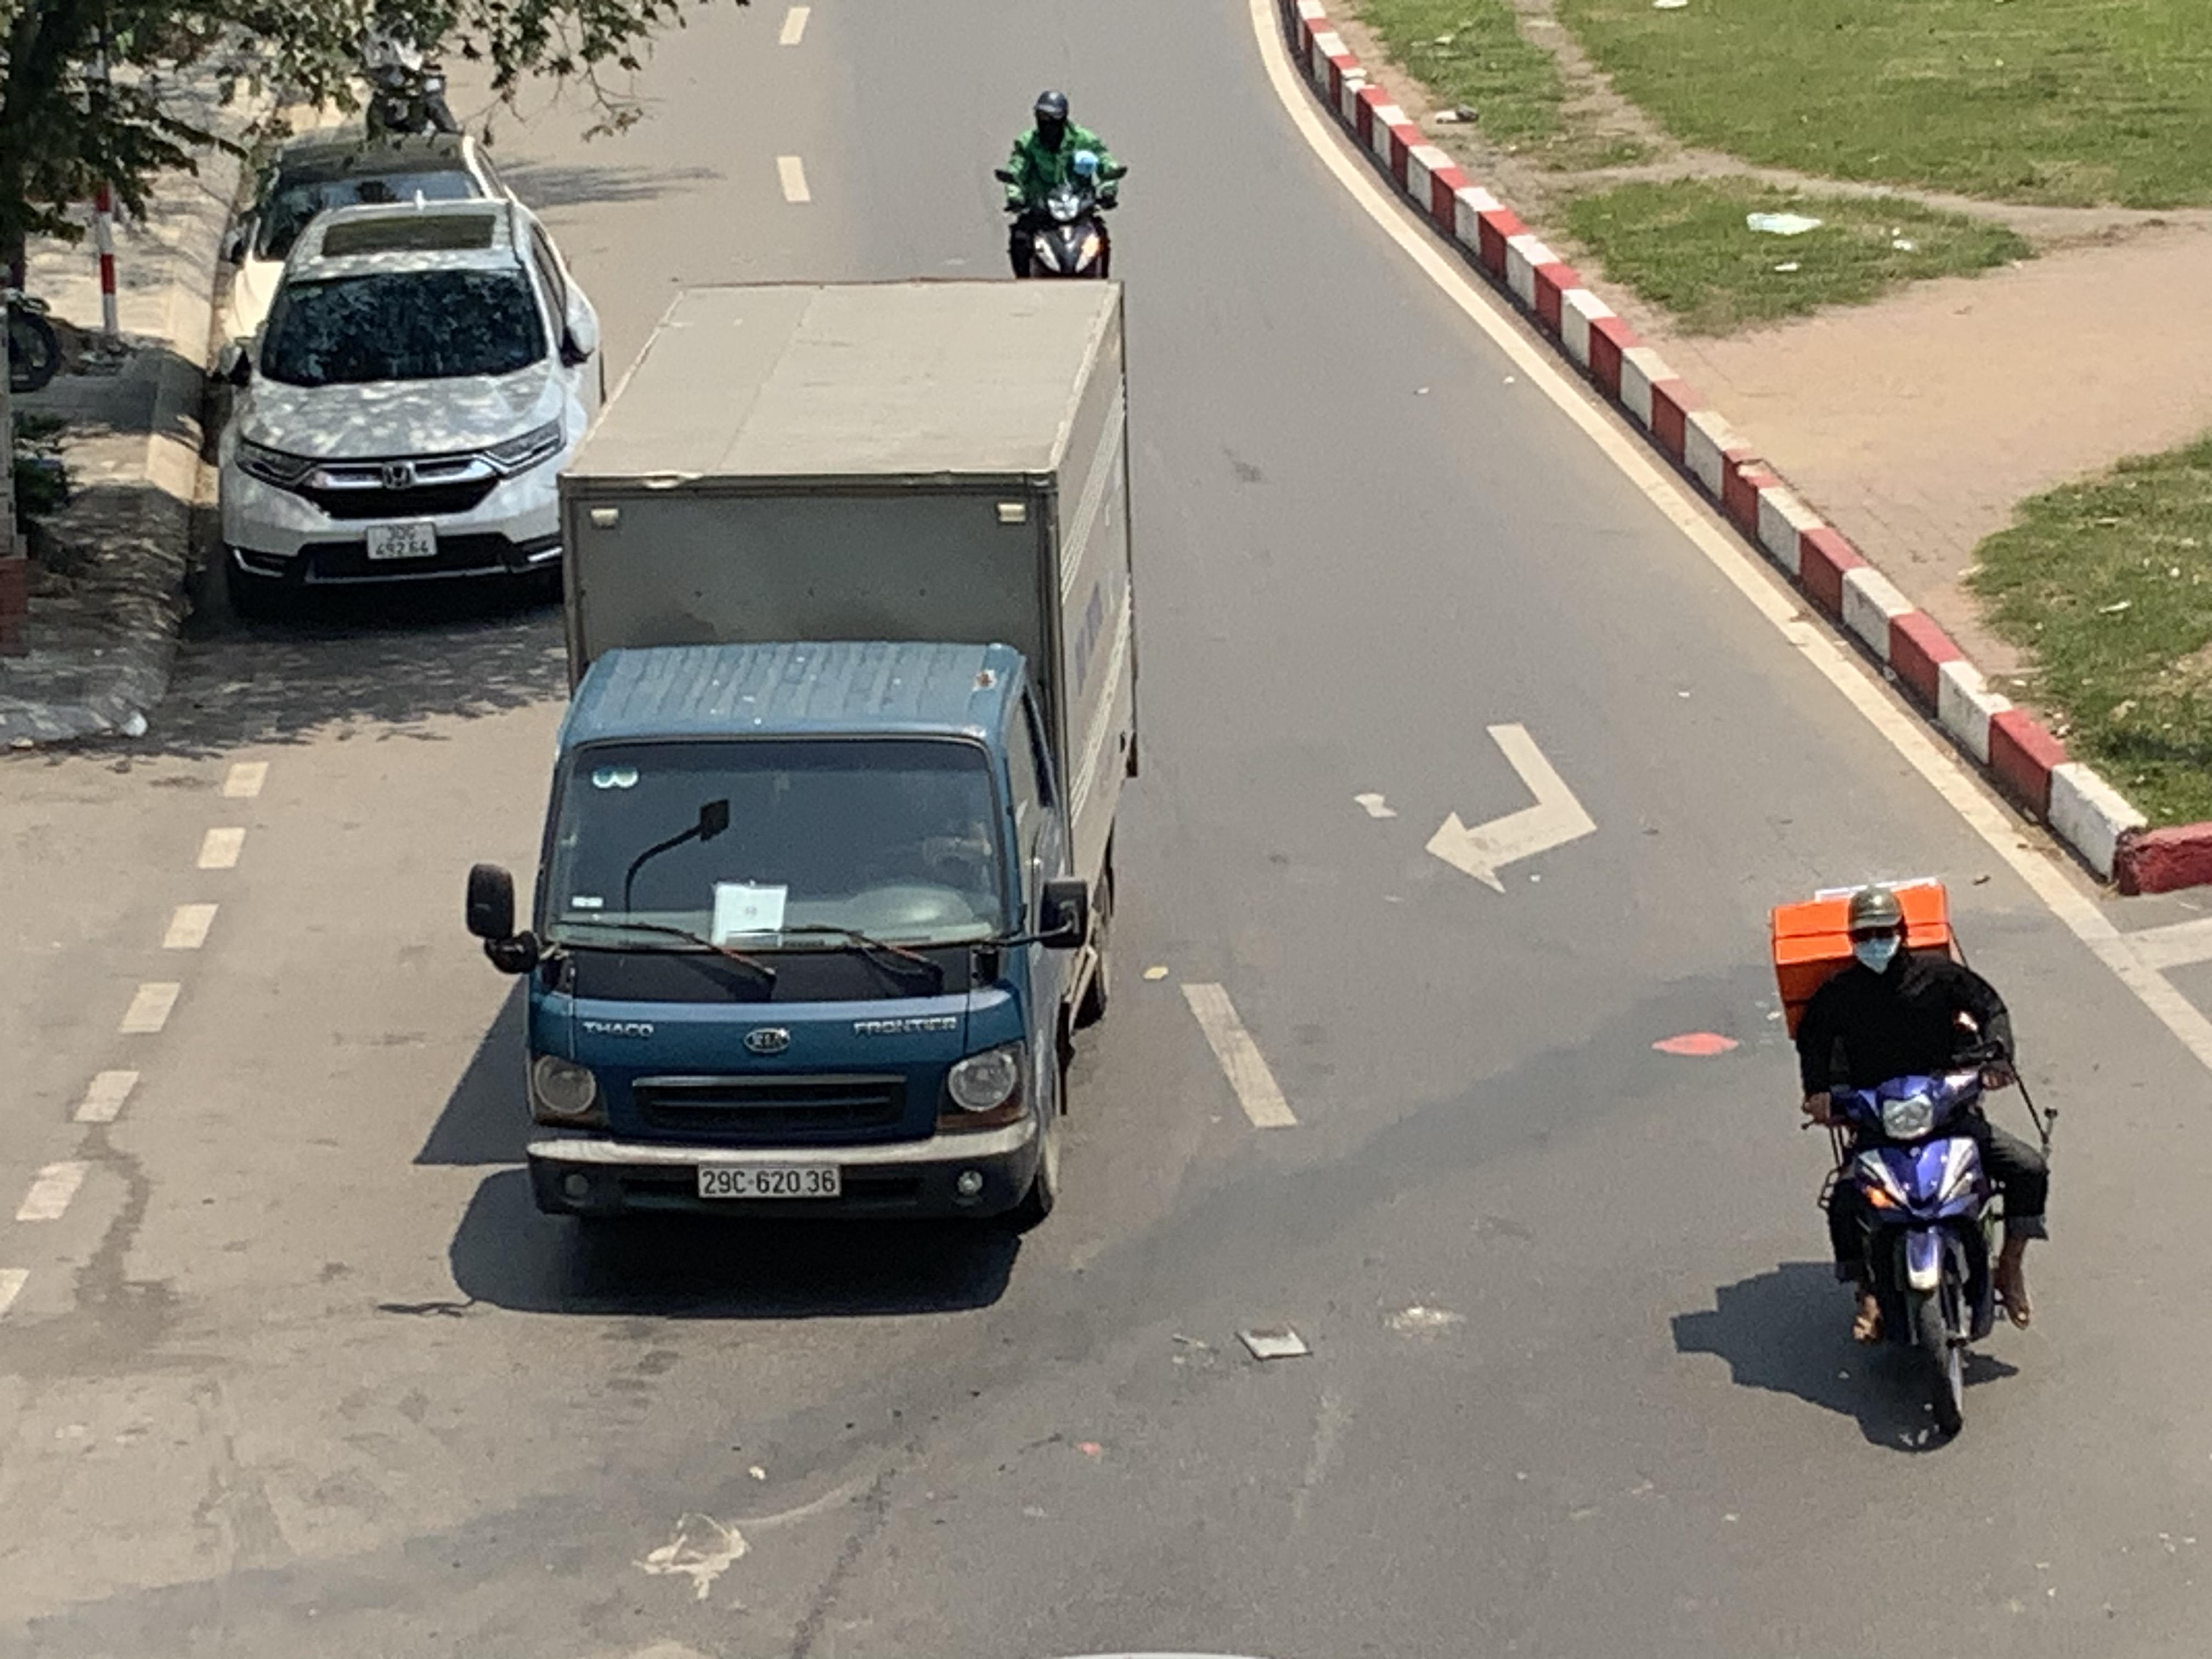BSD: (698, 1164, 841, 1199)
BSV: (364, 521, 435, 559)
car: (209, 176, 604, 615)
motorbike: (1778, 875, 2055, 1452), (996, 89, 1123, 282)
truck: (467, 272, 1153, 1243)
